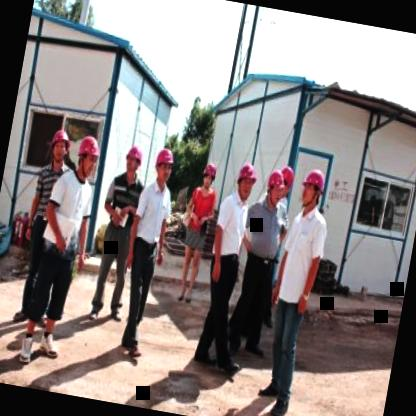helmet: (70, 130, 102, 184), (296, 164, 328, 214), (231, 155, 260, 200), (150, 141, 178, 187), (47, 124, 74, 170), (262, 166, 288, 210), (119, 140, 144, 179), (277, 164, 297, 200), (198, 158, 218, 192)
